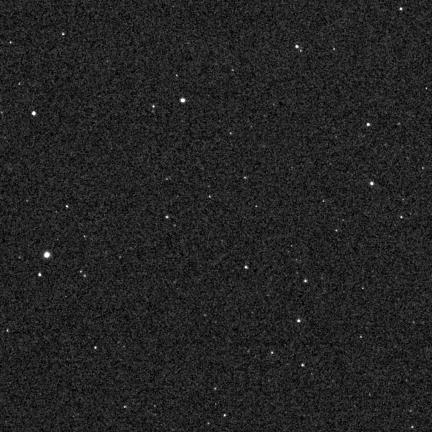blob: (44, 252, 50, 258), (180, 98, 186, 103), (245, 265, 249, 270), (32, 111, 36, 116), (370, 181, 374, 185), (301, 364, 305, 367), (367, 123, 370, 126), (296, 45, 299, 48), (297, 319, 300, 322)
